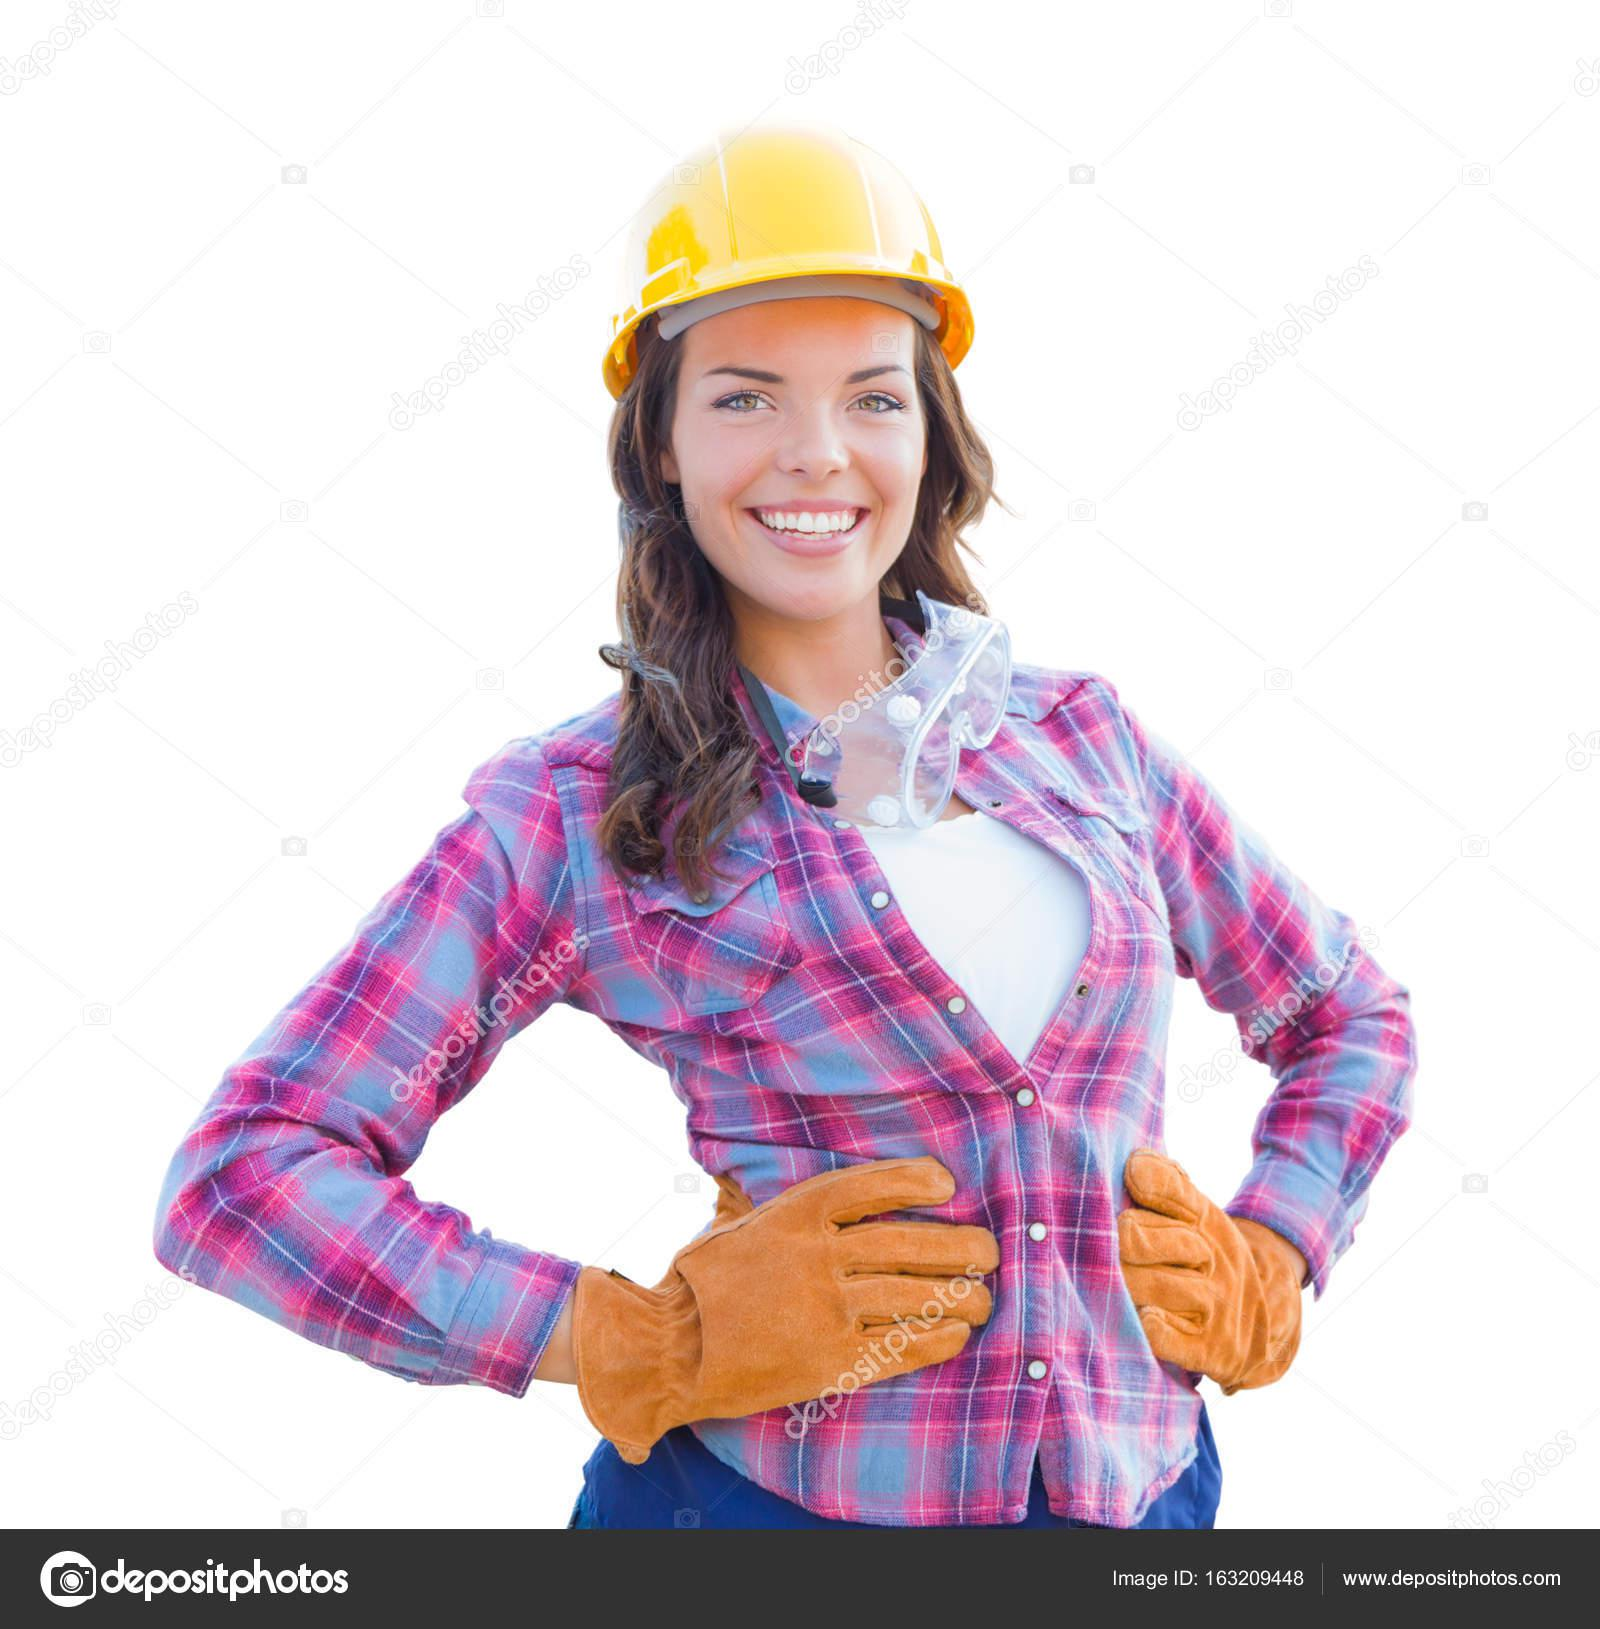hardhat: (602, 112, 975, 376)
worker: (158, 108, 1424, 1534)
